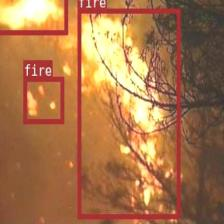fire: (77, 9, 180, 218), (0, 0, 67, 34), (23, 76, 64, 122)
